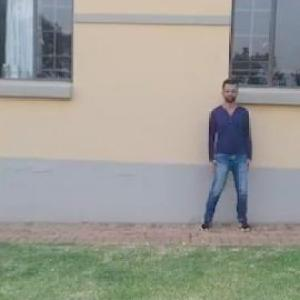follow: (210, 76, 256, 231)
